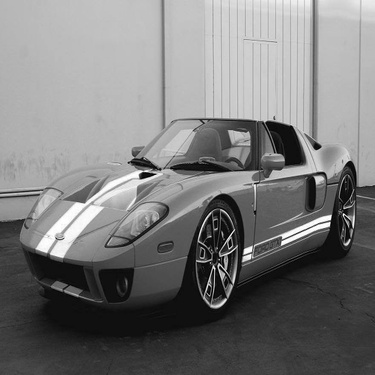car: (14, 107, 360, 324)
